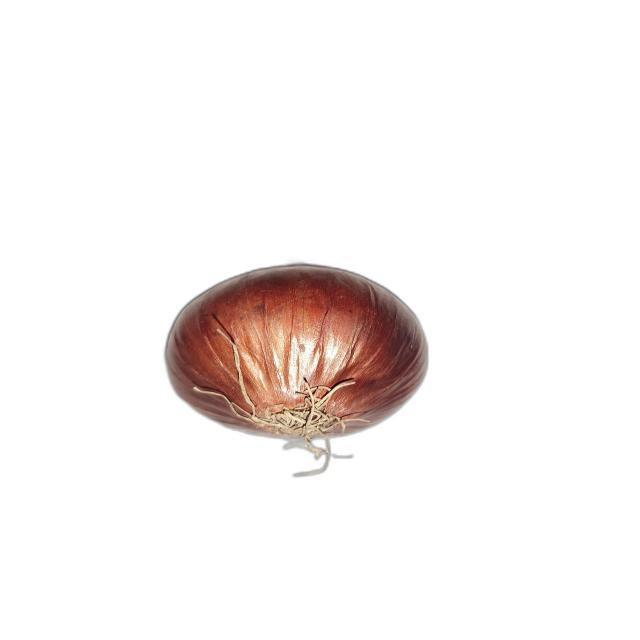onion: (166, 264, 428, 471)
